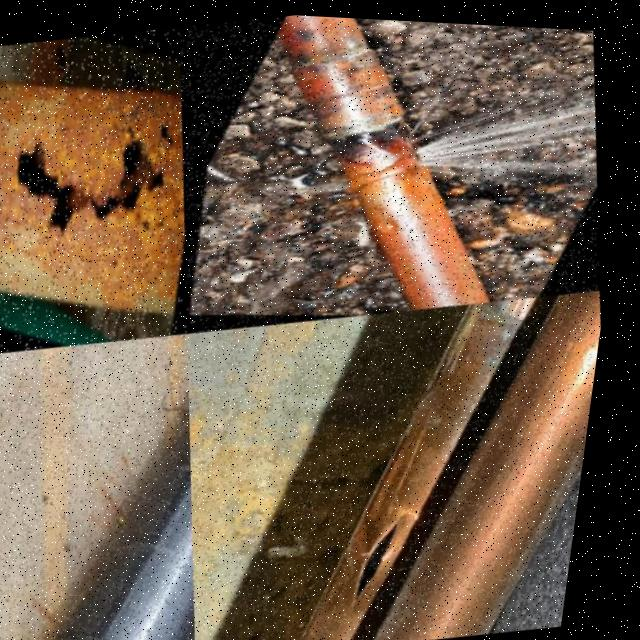hole: (105, 129, 189, 231), (1, 128, 70, 215), (43, 168, 99, 245), (151, 113, 185, 153), (173, 137, 192, 179), (179, 180, 194, 216), (144, 217, 160, 236)
rupture: (347, 494, 418, 618), (396, 133, 427, 169)
